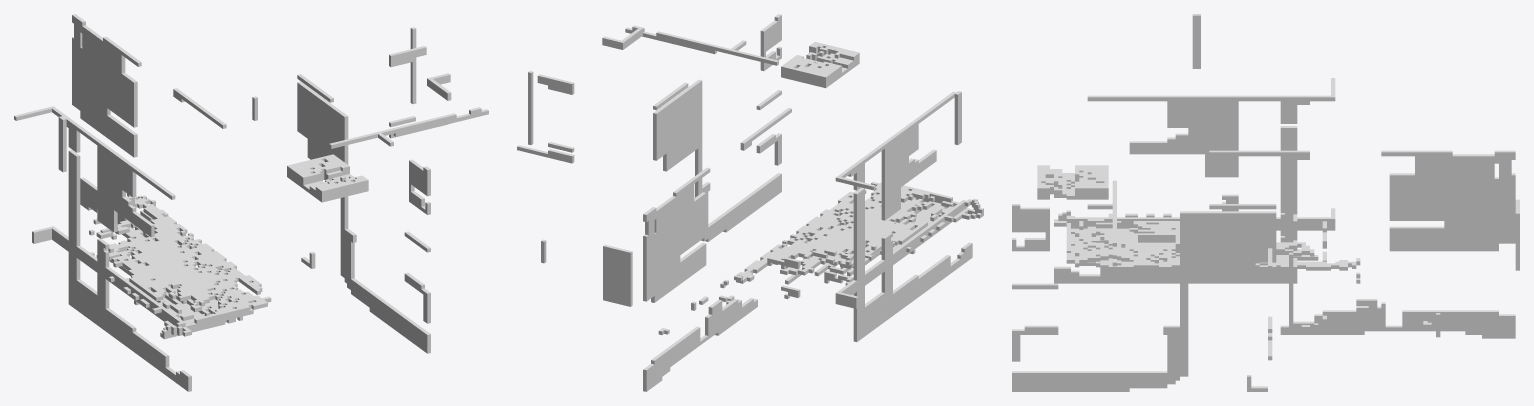
The picture shows the model from 3 angles, left to right: view 1: azimuth 30°, elevation 25°; view 2: azimuth 150°, elevation 25°; view 3: azimuth 270°, elevation 25°; orthographic projection. The views are drawn at different scales.
Parts seen in each view (by area): view 1: 白光; view 2: 白光; view 3: 白光.
Boxes of the visible parts, x1,y1,x2,y2 form: 白光: [14, 14, 488, 391]; 白光: [517, 14, 983, 391]; 白光: [1012, 14, 1519, 391].
Bounding box in the file's own units: 118 × 63 × 121.
1 material, 1 textured.
